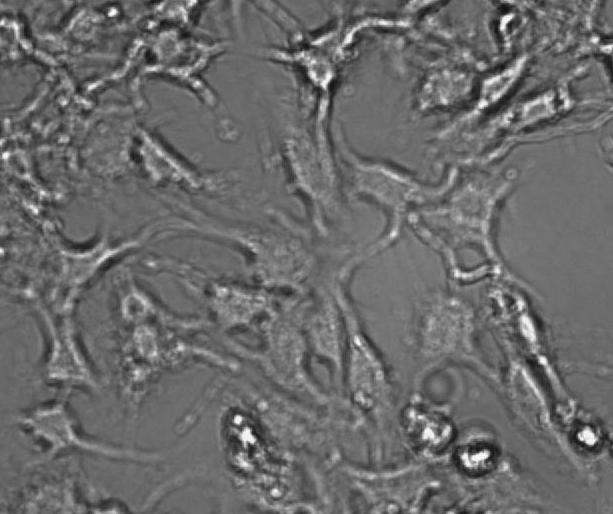Dead: (216, 403, 293, 504), (549, 400, 613, 466), (396, 399, 459, 454), (486, 3, 538, 55), (451, 440, 506, 479)
